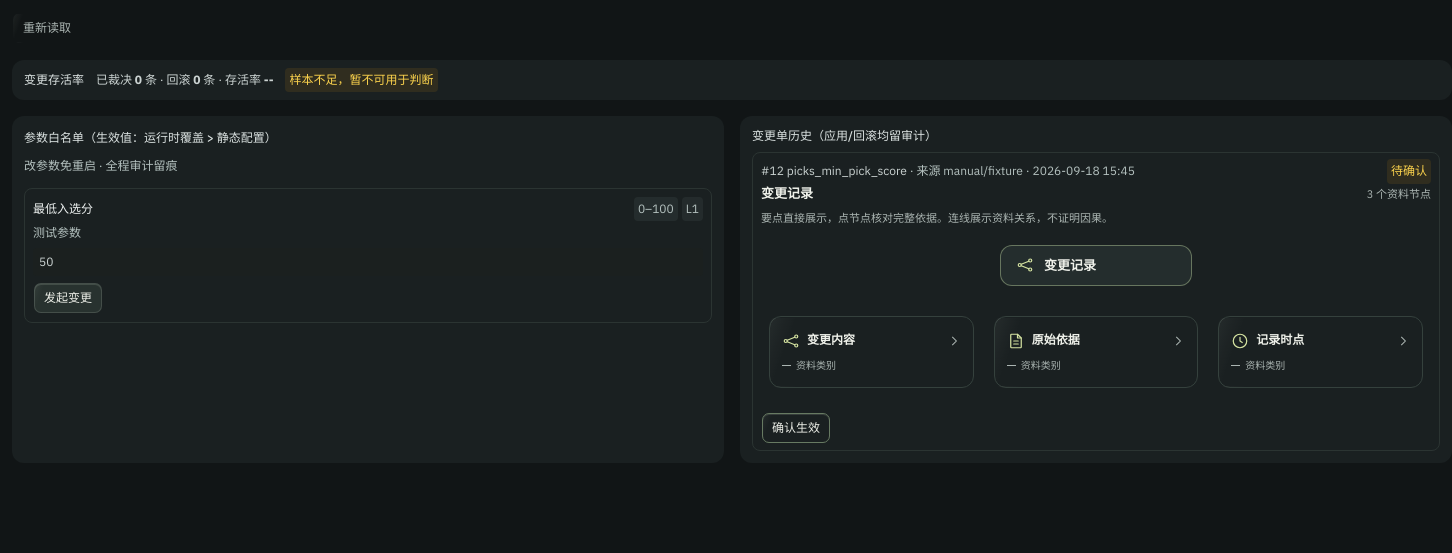
Scenario: 参数配置 · 独立读取 › 同范围重新读取失败保留编辑草稿和旧行，旧批准动作暂停，恢复后可用
Click the button "发起变更" at (68, 298), box [33,282,103,314]
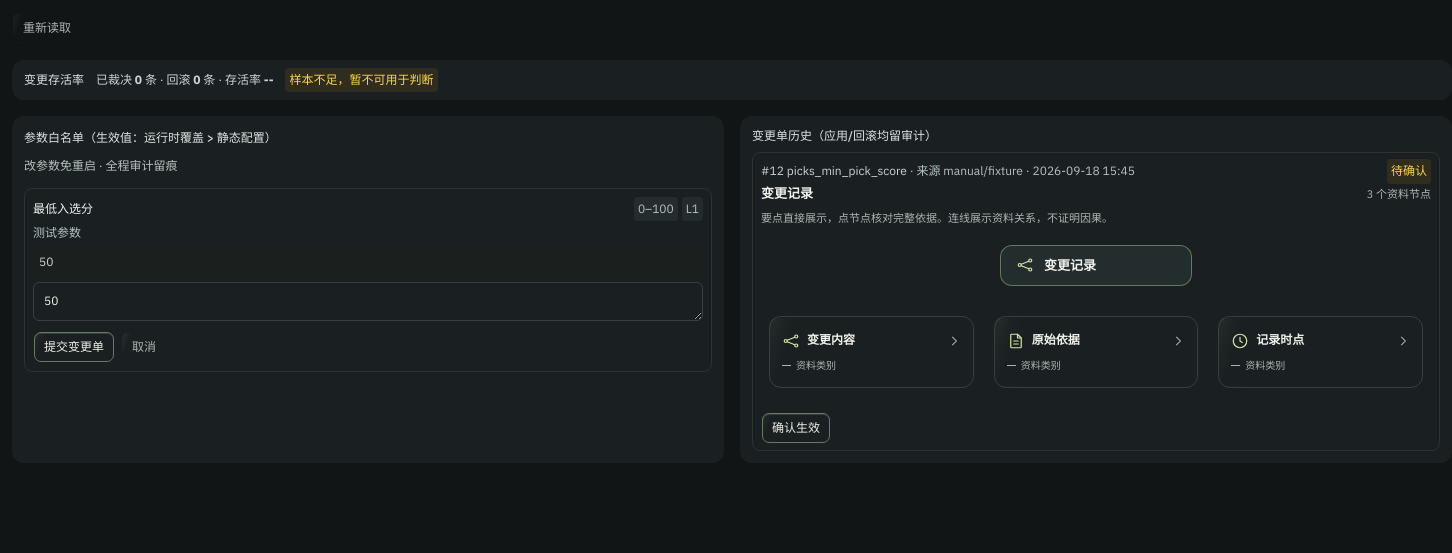
Replace the text in the text box named "最低入选分的新值" with "65" at (368, 301), box [33,282,703,320]
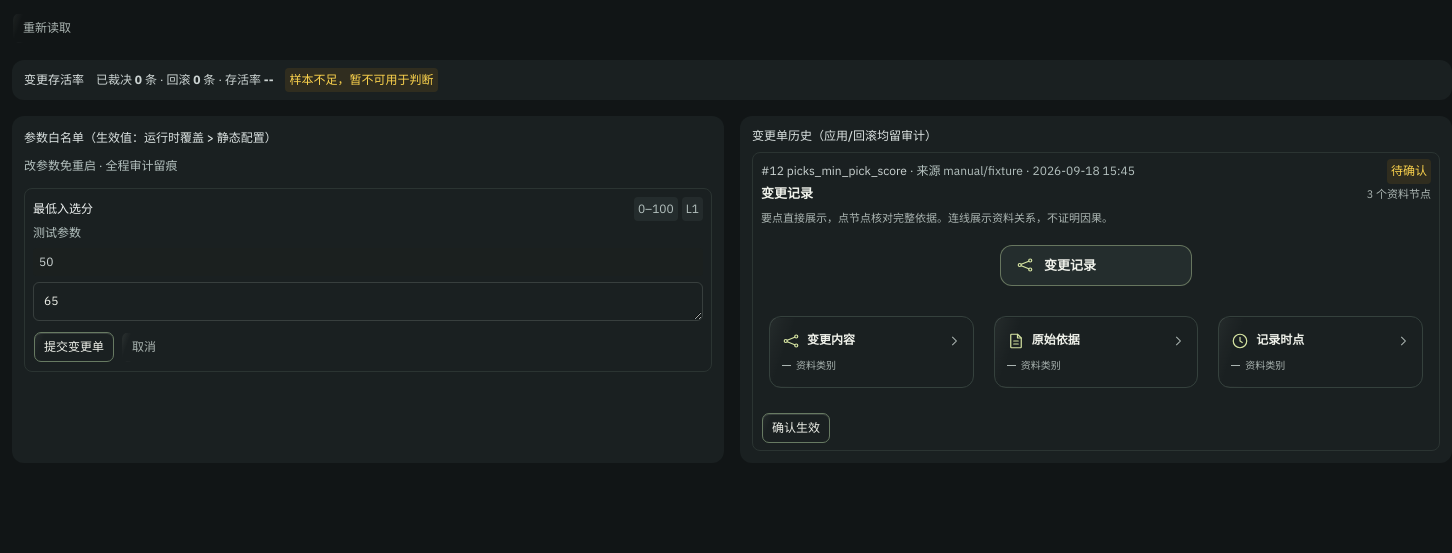
Click the button "重新读取" at (47, 28), box [12,12,82,44]
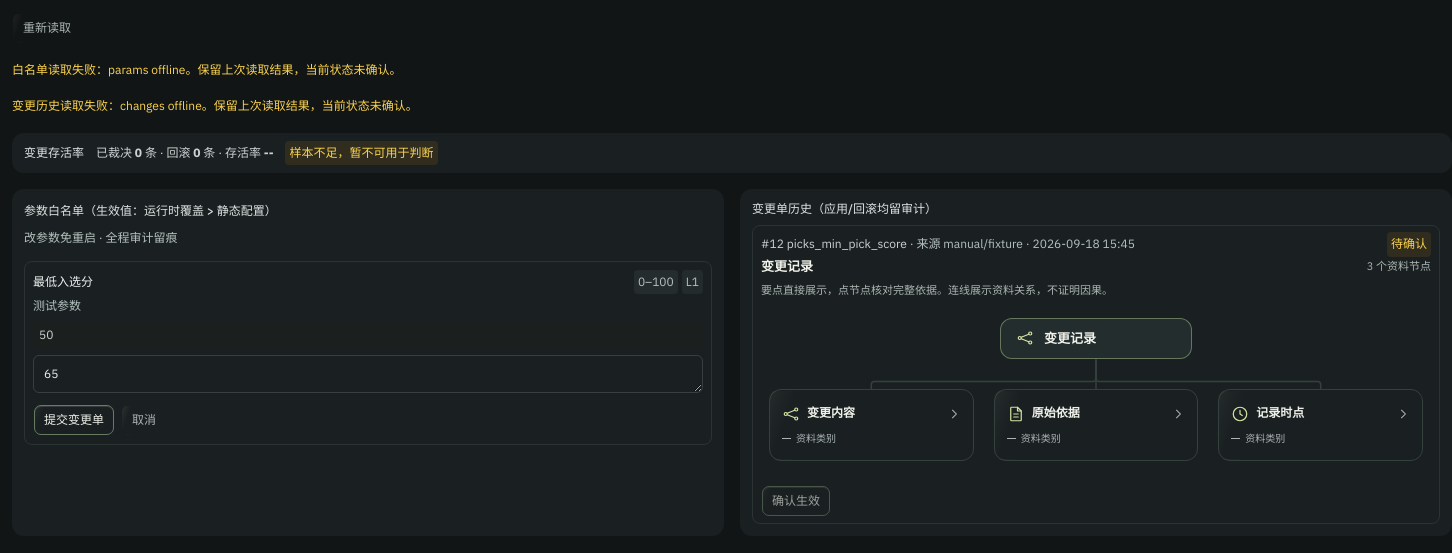
Check: the text "白名单读取失败：params offline。保留上次读取结果，当前状态未确认。" is shown, box [12,62,402,77]
Check: the button "确认生效" is disabled, box [761,485,831,517]
Click the button "重新读取" at (47, 28), box [12,12,82,44]
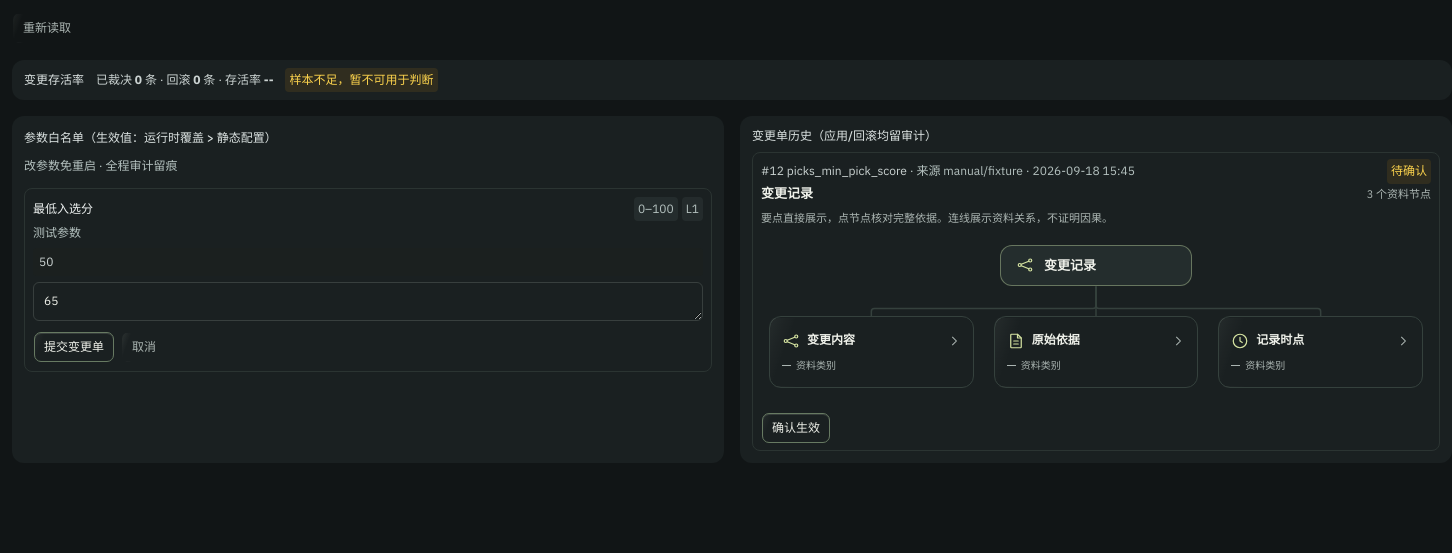
Check: the text "changes offline" is gone
Check: the button "确认生效" is enabled, box [761,412,831,444]
